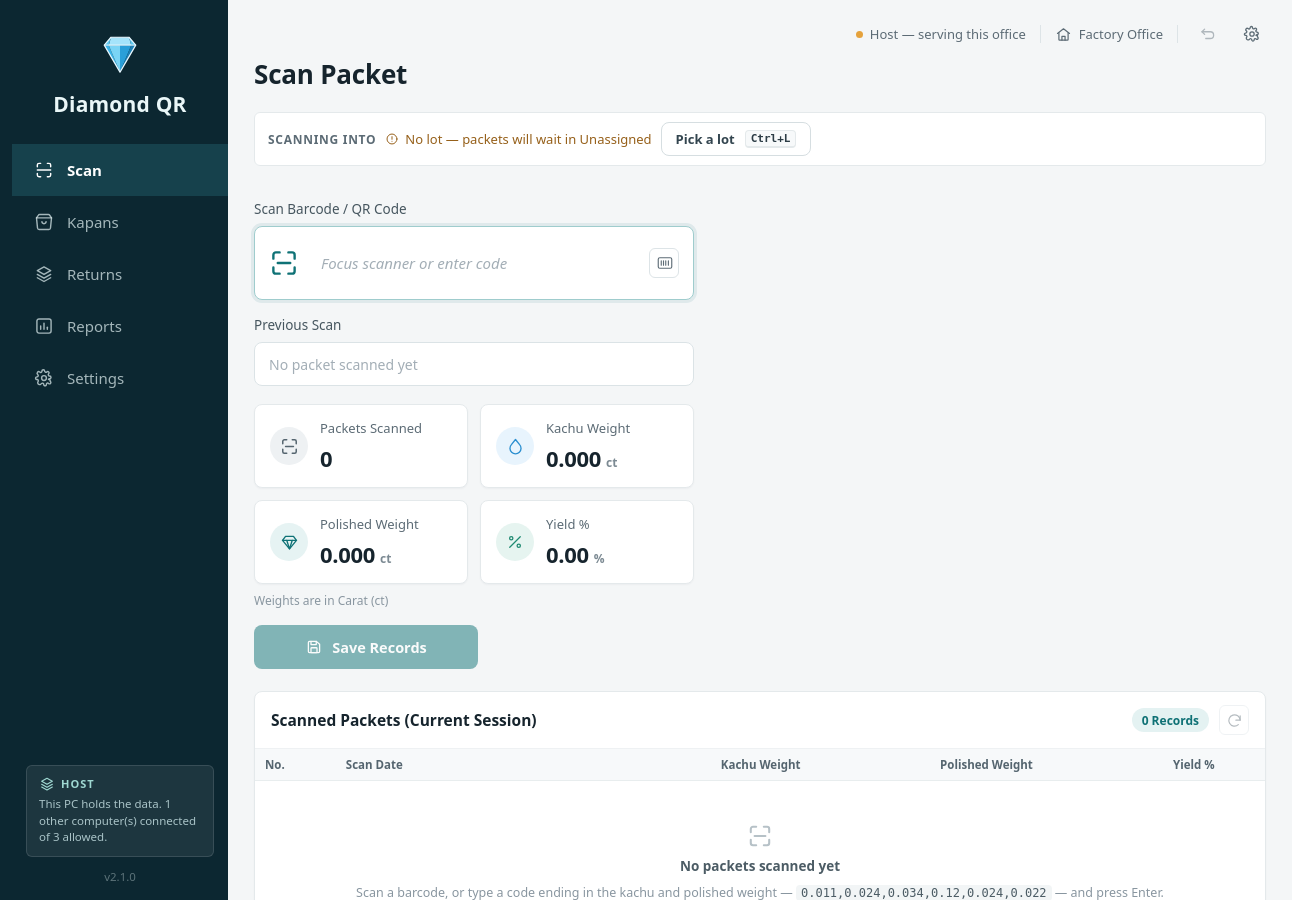
Test: a host PC › shows the address to type into the other computers
This screenshot has width=1292, height=900.
Expected: the text "HOST" is shown, [39, 776, 95, 792]
Expected: the text "This PC holds the data" is shown, [39, 796, 196, 844]
Click the button "Settings" at (120, 378), box [12, 352, 228, 404]
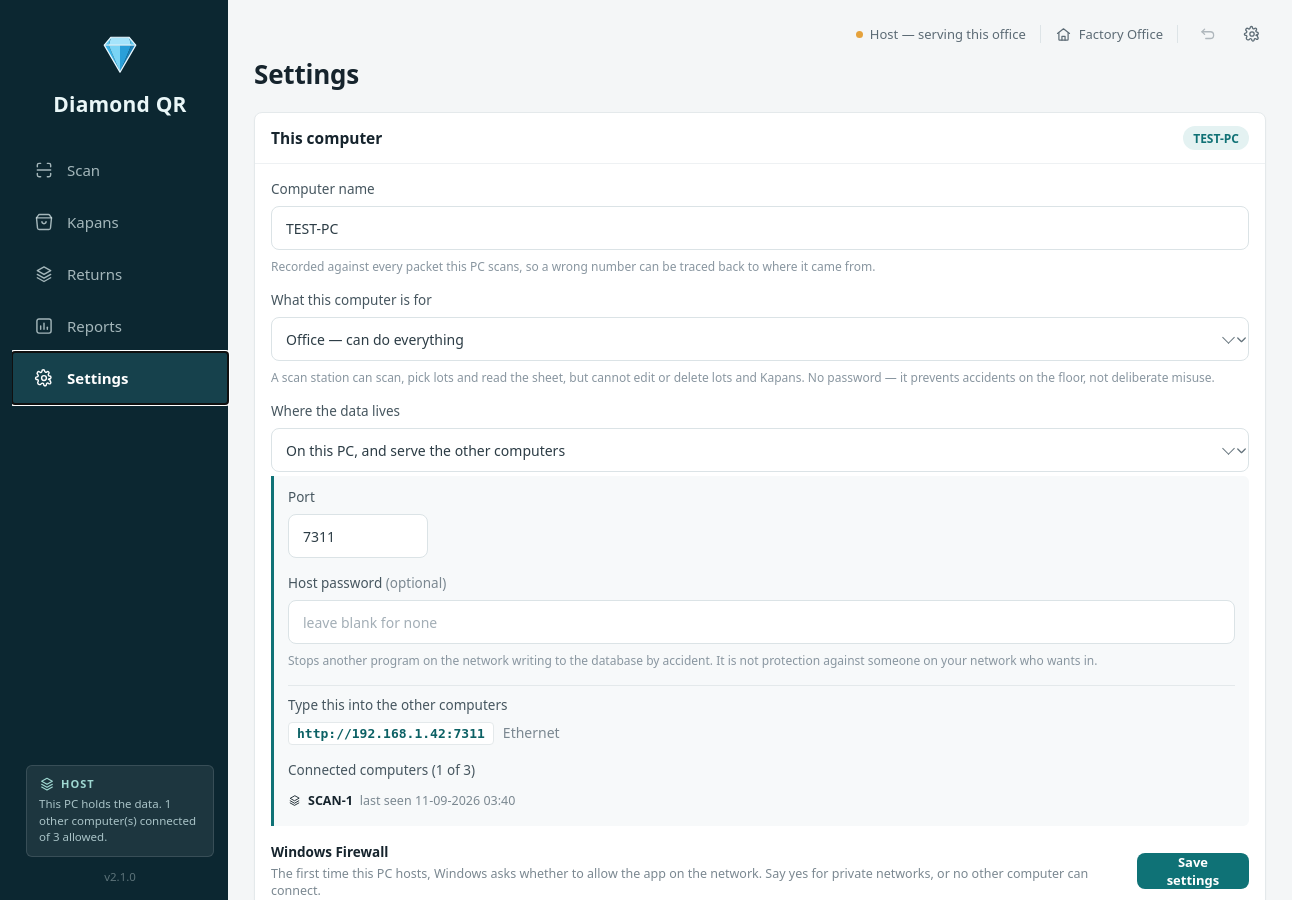
Result: the text "http://192.168.1.42:7311" is shown at [288, 722, 494, 745]
Result: the text "SCAN-1" is shown at [308, 792, 353, 809]
